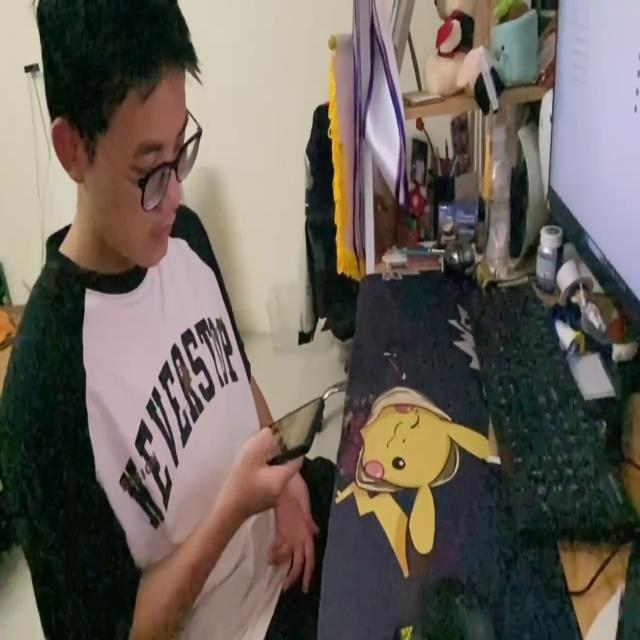laptop: (549, 3, 640, 340)
phone: (256, 388, 324, 465)
student: (1, 0, 330, 637)
